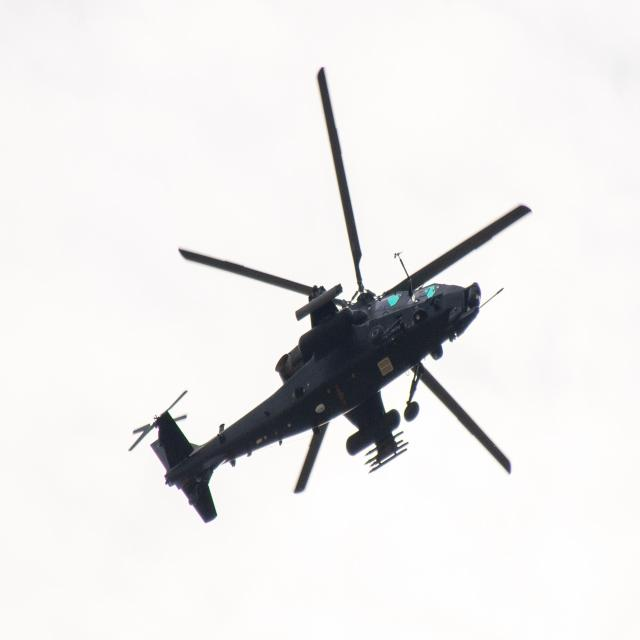MIL_HELO: (125, 51, 532, 554)
